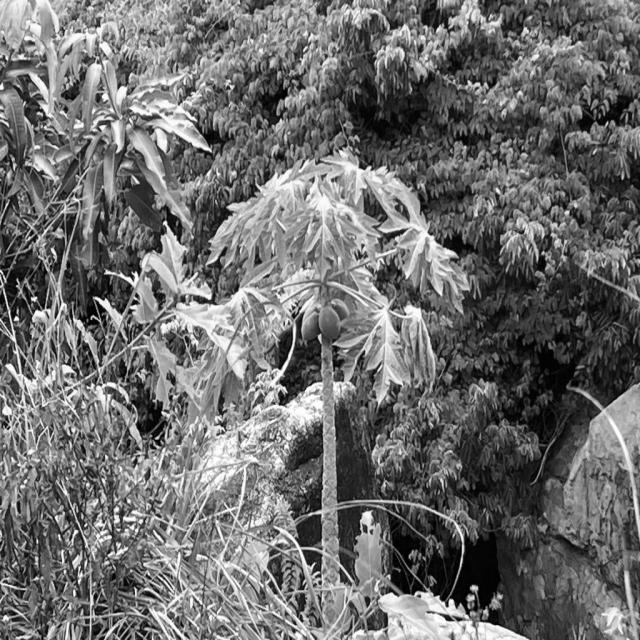Papaya-Tree: (214, 151, 465, 578)
